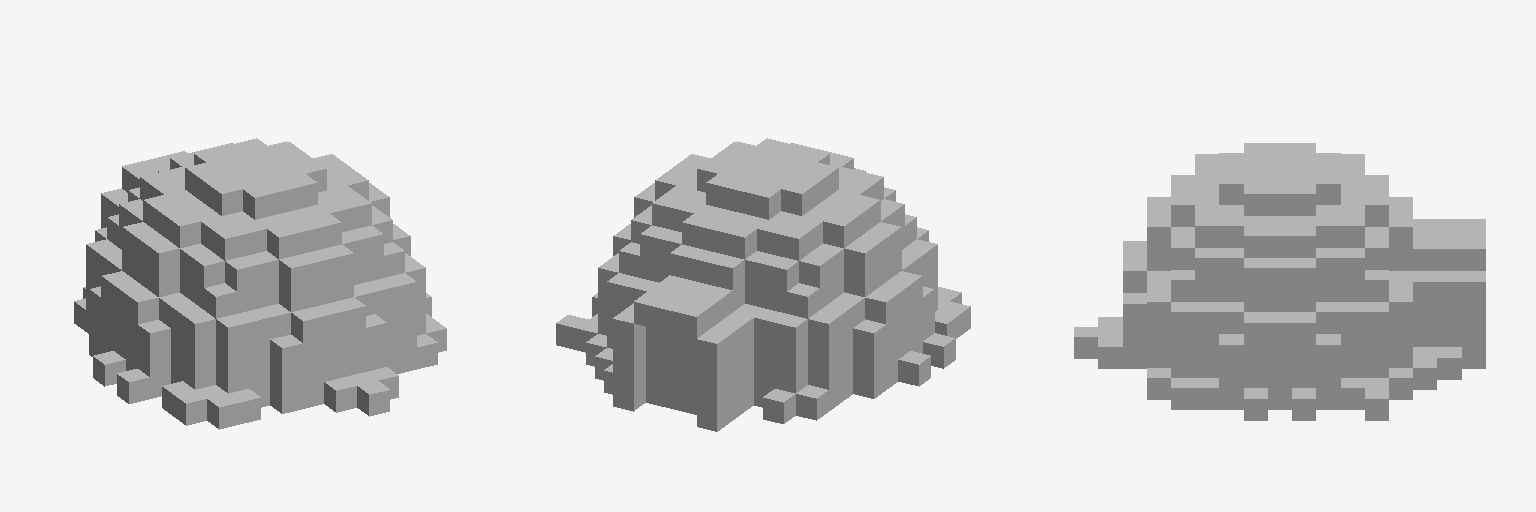
Rendered from igloo.obj.
3 views of the same model, side by side, from view 1: azimuth 30°, elevation 25°; view 2: azimuth 150°, elevation 25°; view 3: azimuth 270°, elevation 25° (orthographic).
Size of the model in its own units: 15 by 8 by 17.